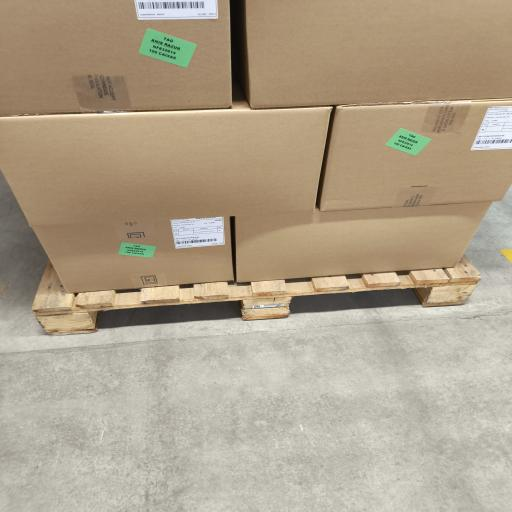pallet: (33, 256, 480, 335)
